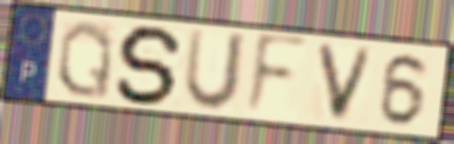6: (378, 51, 432, 128)
F: (241, 30, 310, 120)
Q: (54, 18, 116, 102)
S: (113, 23, 188, 107)
U: (179, 26, 250, 115)
V: (313, 40, 378, 126)
